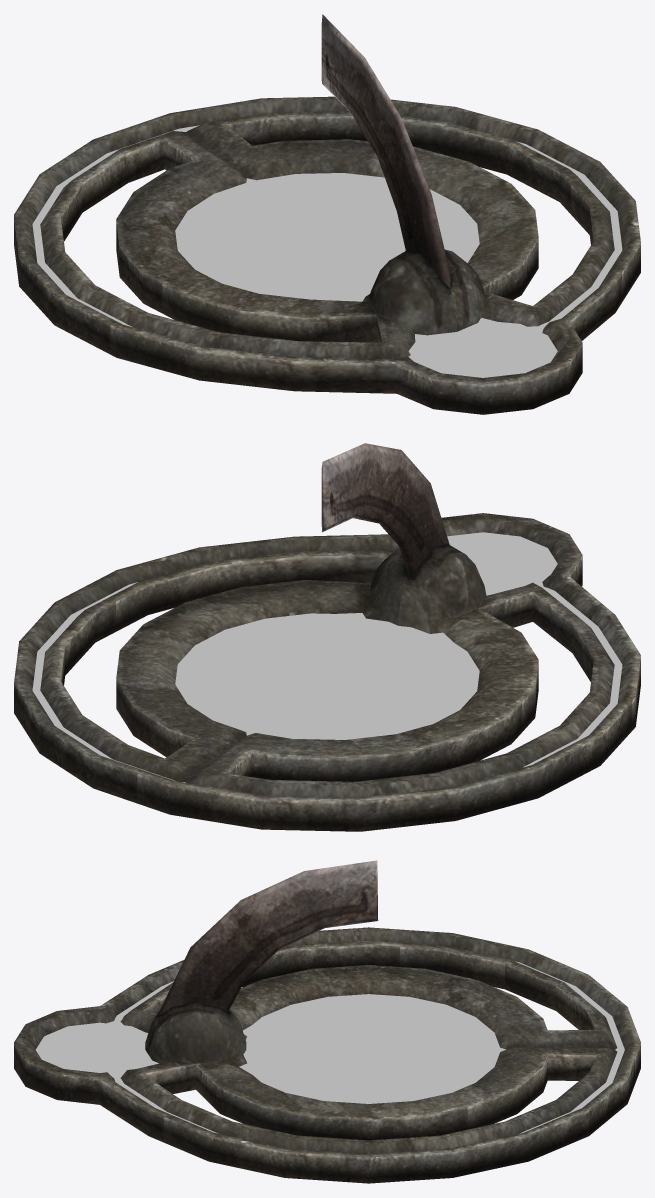
Rendered from special_altar_static_knife.dae.
The picture shows the model from 3 angles, top to bottom: view 1: azimuth 30°, elevation 25°; view 2: azimuth 150°, elevation 25°; view 3: azimuth 270°, elevation 25°; orthographic projection. The views are drawn at different scales.
Visible parts, largest first — view 1: polySurface4, polySurface5; view 2: polySurface4, polySurface5; view 3: polySurface4, polySurface5.
Boxes of the visible parts, x1,y1,x2,y2 form: polySurface4: [14, 14, 640, 414]; polySurface5: [32, 125, 622, 377]; polySurface4: [14, 443, 640, 831]; polySurface5: [32, 532, 622, 782]; polySurface4: [14, 860, 640, 1183]; polySurface5: [35, 961, 624, 1133].
Bounding box in the file's own units: 0.4254 × 0.1795 × 0.4899.
